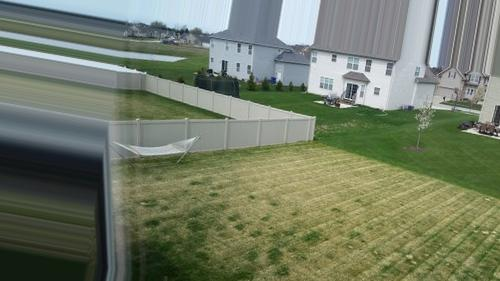patch: (237, 149, 356, 200), (307, 222, 381, 280), (369, 181, 450, 226)
